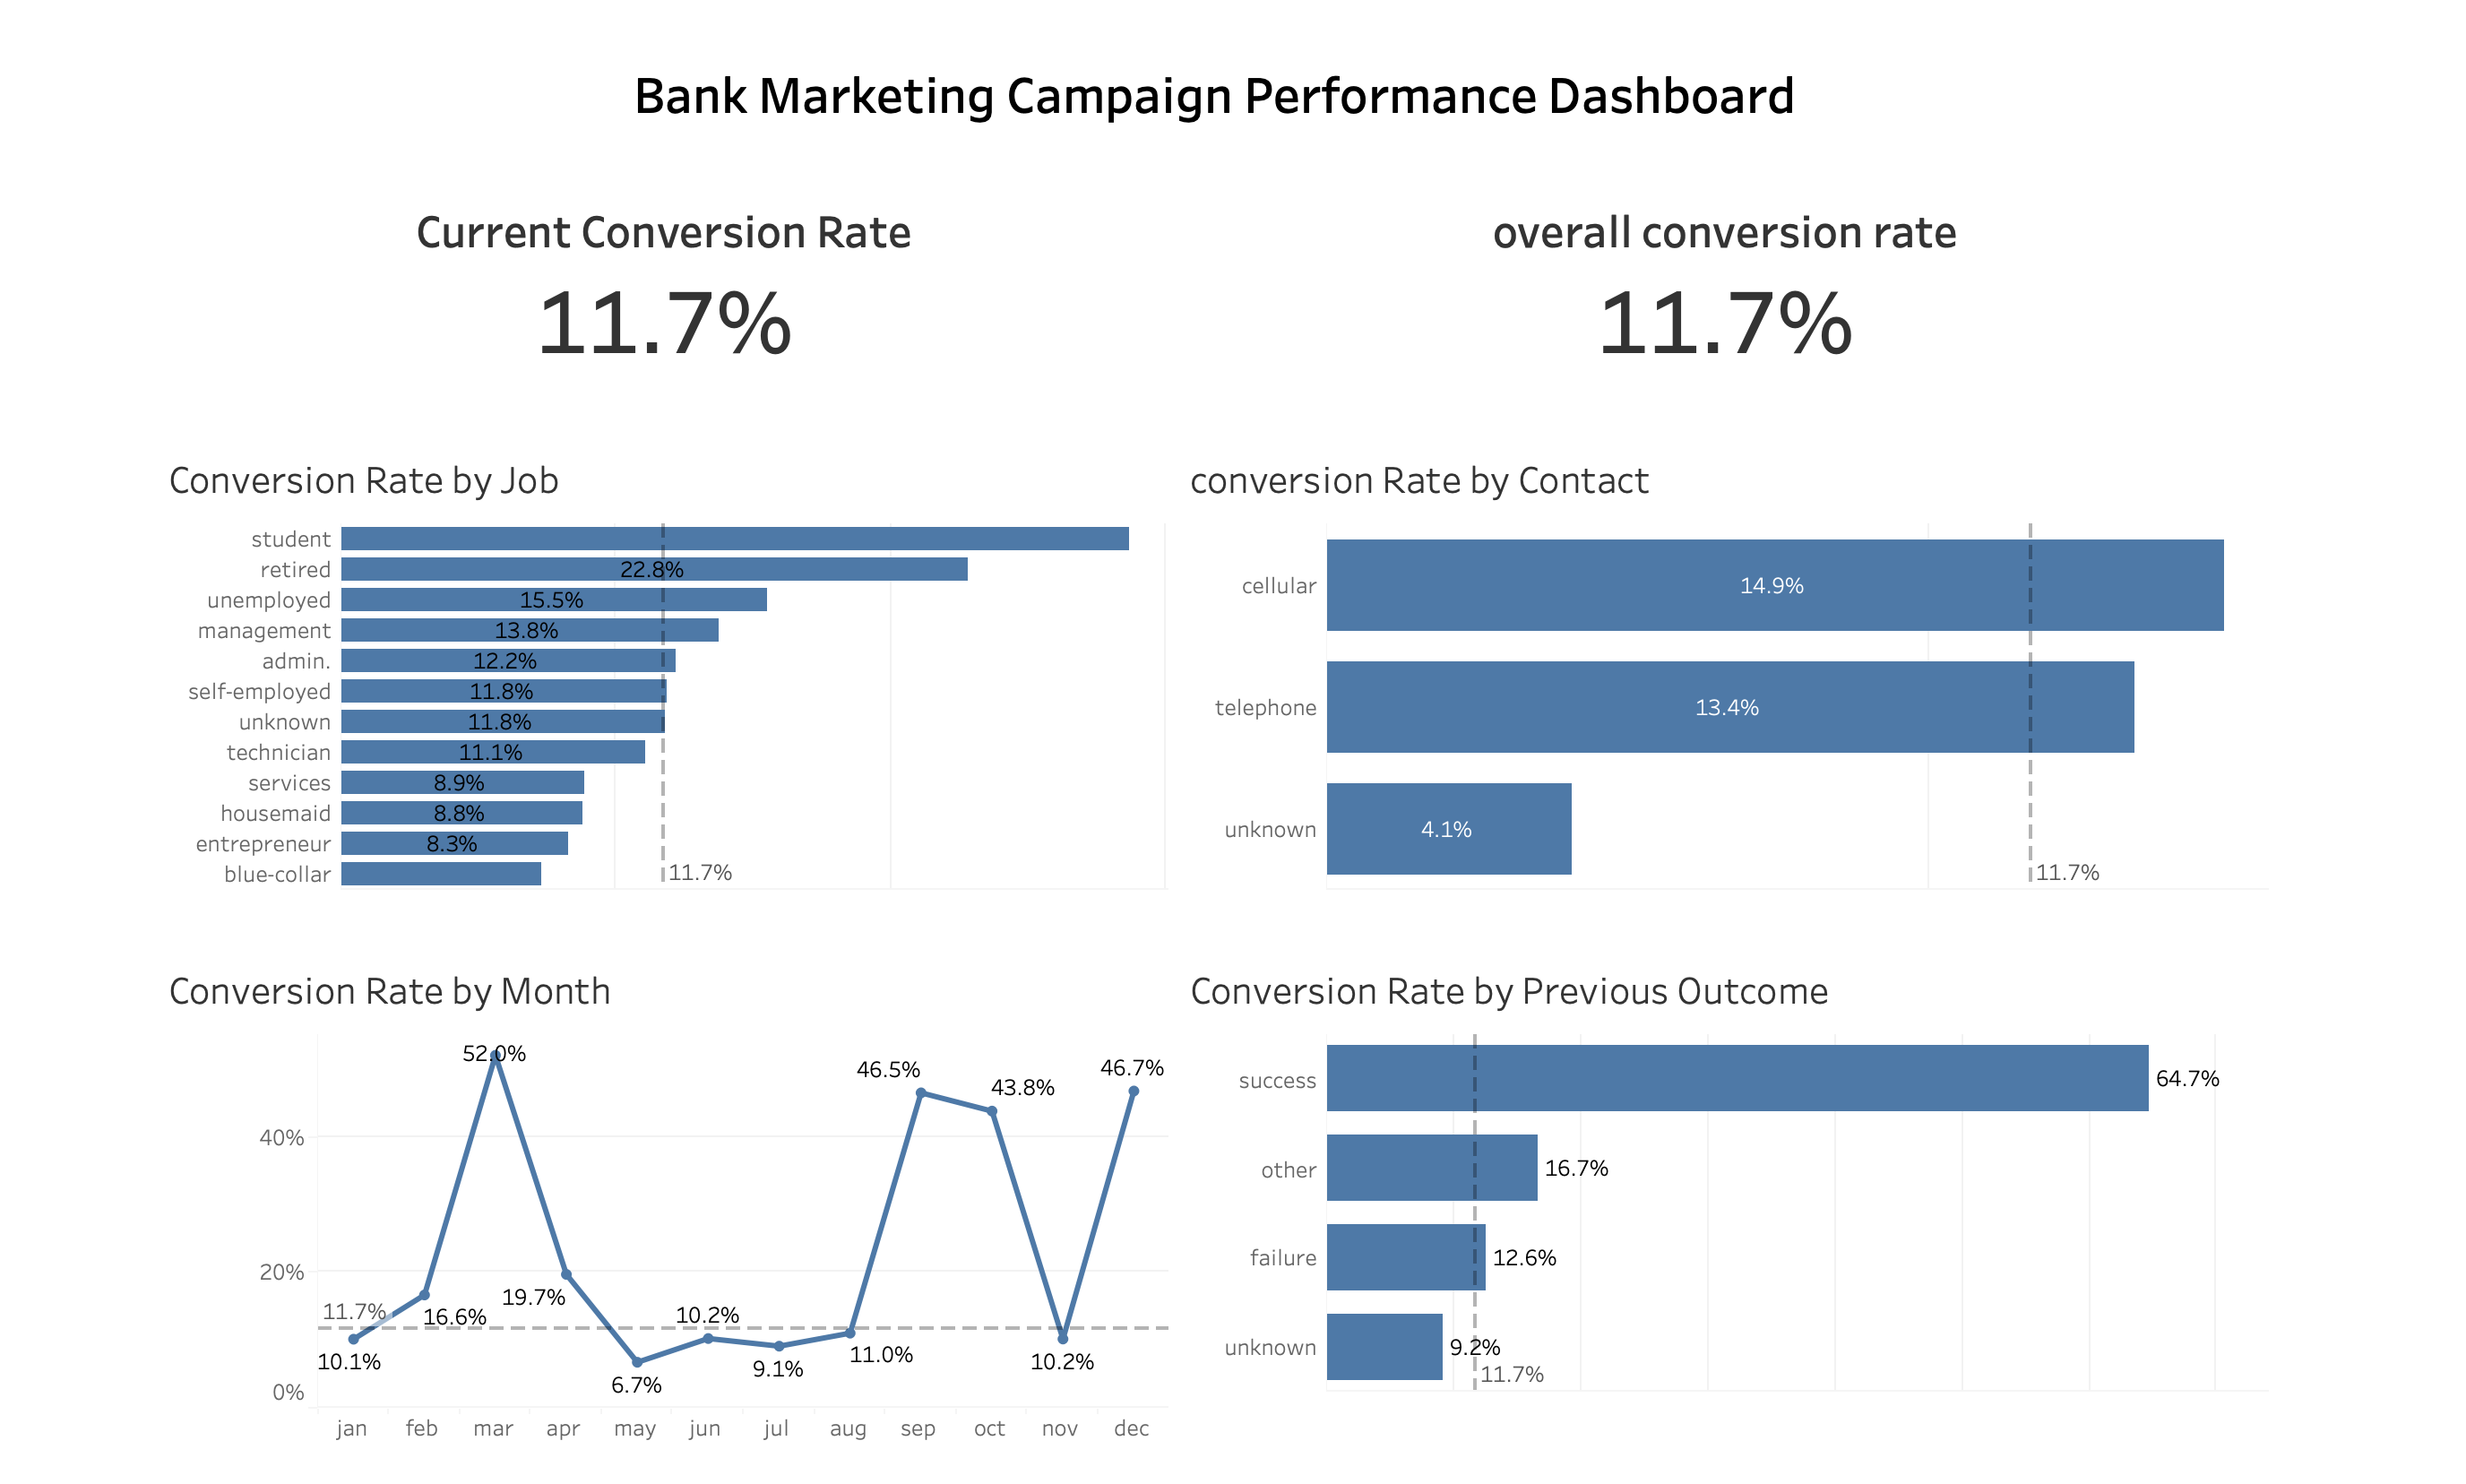

Layout of this report page (visuals, bound fields, positions):
{"tool":"tableau","page":{"name":"图","canvas":[1200,800],"ordinal":0},"visuals":[{"type":"text","box":[8,8,1184,53]},{"type":"worksheet","title":"current conversion rate","mark":"Automatic","box":[8,61,570,166]},{"type":"worksheet","title":"overall conversion rate","mark":"Automatic","box":[578,61,614,166]},{"type":"worksheet","title":"Conversion Rate by Job","mark":"Bar","rows":["job"],"cols":["Calculation_5546122341957632"],"box":[8,227,570,285]},{"type":"worksheet","title":"conversion Rate by Contact","mark":"Bar","rows":["contact"],"cols":["Calculation_5546122341957632"],"box":[578,227,614,285]},{"type":"worksheet","title":"Conversion Rate by Month","mark":"Line","rows":["Calculation_5546122341957632"],"cols":["month"],"box":[8,512,570,280]},{"type":"worksheet","title":"Conversion Rate by Previous Outcome","mark":"Automatic","rows":["poutcome"],"cols":["Calculation_5546122341957632"],"box":[578,512,614,280]}]}

Visuals, with their boxes on the page's 1200x800 design canvas (x1, y1, x2, y2). These are canvas units, not pixel positions in the 2466x1484 screenshot, which may show the page scaled, cropped or inside an application window:
text: <region>8, 8, 1192, 61</region>
"current conversion rate" worksheet: <region>8, 61, 578, 227</region>
"overall conversion rate" worksheet: <region>578, 61, 1192, 227</region>
"Conversion Rate by Job" worksheet (Bar marks): <region>8, 227, 578, 512</region>
"conversion Rate by Contact" worksheet (Bar marks): <region>578, 227, 1192, 512</region>
"Conversion Rate by Month" worksheet (Line marks): <region>8, 512, 578, 792</region>
"Conversion Rate by Previous Outcome" worksheet: <region>578, 512, 1192, 792</region>
